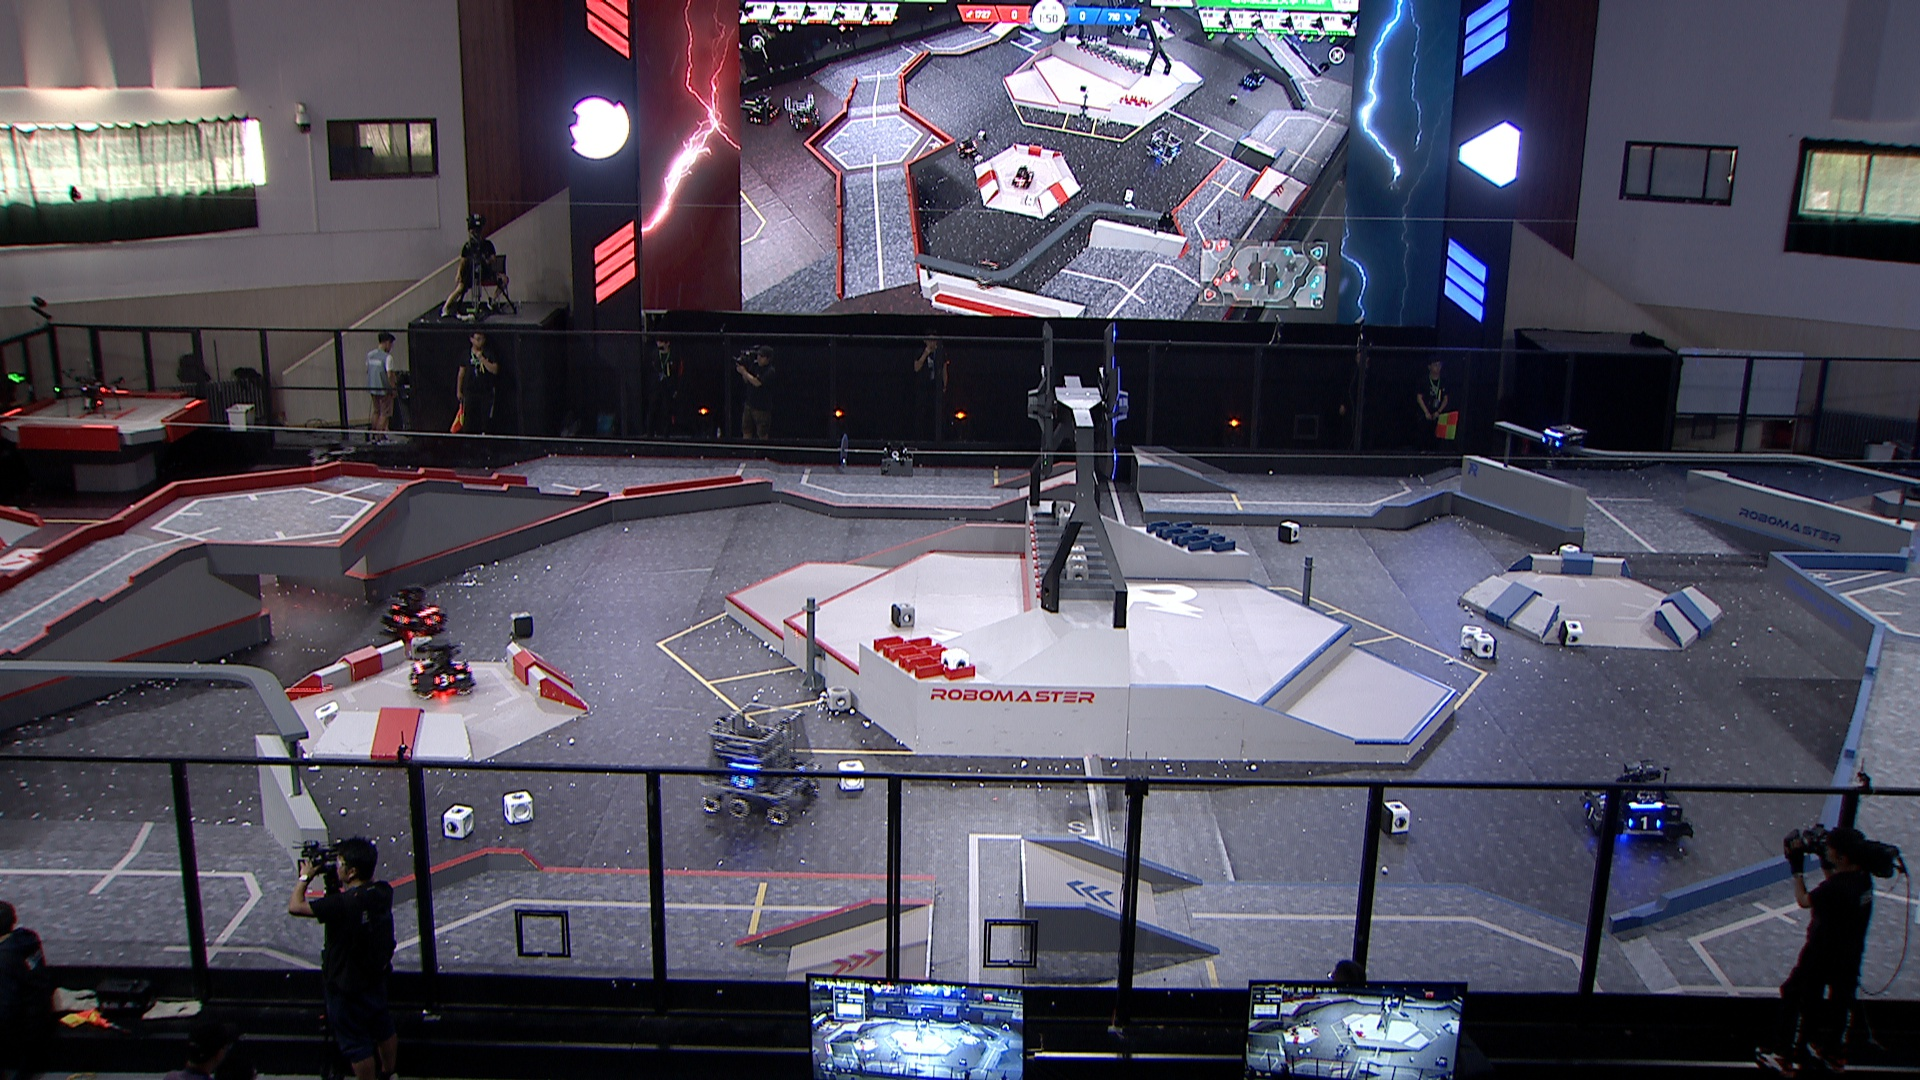armor: (1627, 815, 1664, 831), (433, 671, 458, 688), (1582, 802, 1600, 822), (731, 775, 756, 789), (1542, 434, 1561, 448), (392, 612, 410, 626), (425, 613, 442, 626), (451, 659, 465, 670)
car: (700, 700, 825, 829), (1577, 764, 1695, 851), (410, 636, 480, 700), (381, 583, 448, 638)
ignore: (1145, 131, 1187, 166), (785, 94, 822, 131), (742, 92, 781, 125), (1010, 164, 1035, 195), (975, 258, 1000, 290), (1240, 67, 1266, 92), (953, 135, 978, 160)
watcher: (1542, 425, 1584, 467)
